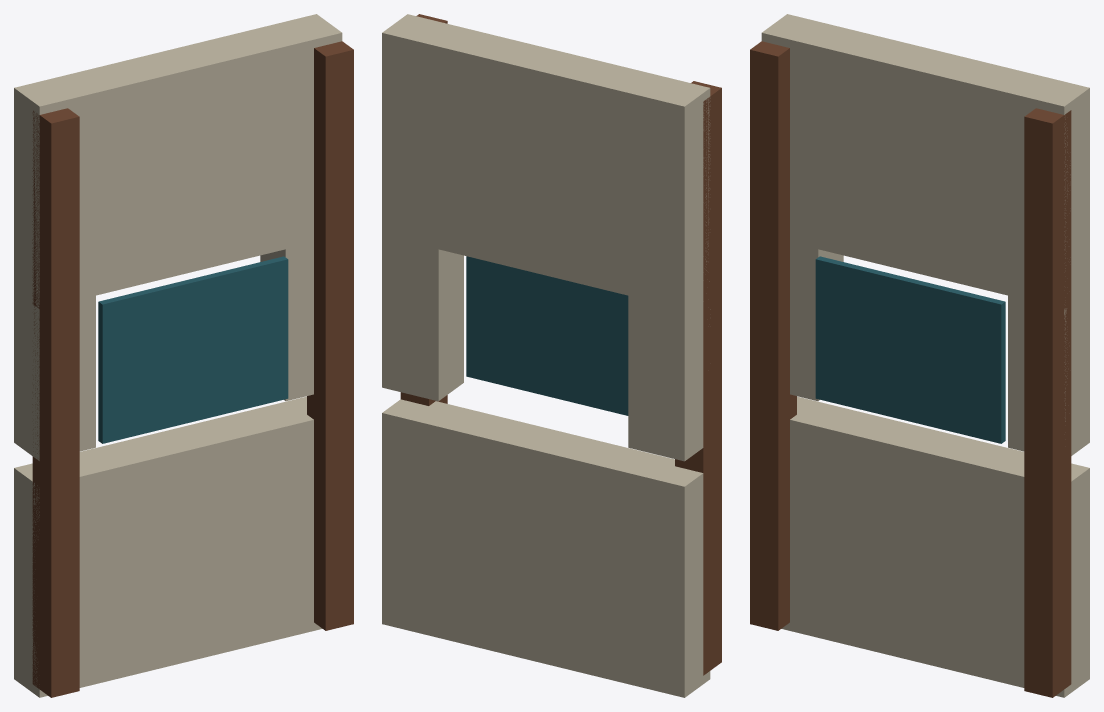
The model's file is wk_facade_window_v01.glb.
3 renders of one model, left to right at view 1: azimuth 30°, elevation 25°; view 2: azimuth 150°, elevation 25°; view 3: azimuth 330°, elevation 25°, orthographic.
Visible parts, largest first — view 1: GEO_WindowUpper, GEO_WindowLower, GEO_WindowGlass, GEO_WindowPost-1, GEO_WindowPost+1, GEO_WindowSide-1, GEO_WindowSide+1; view 2: GEO_WindowLower, GEO_WindowUpper, GEO_WindowGlass, GEO_WindowSide+1, GEO_WindowSide-1, GEO_WindowPost-1; view 3: GEO_WindowUpper, GEO_WindowLower, GEO_WindowPost+1, GEO_WindowGlass, GEO_WindowPost-1, GEO_WindowSide+1, GEO_WindowSide-1.
Part boxes in pixels (x1,y1,x2,y2): GEO_WindowUpper: (14,14,342,308); GEO_WindowLower: (14,396,322,697); GEO_WindowGlass: (98,256,288,443); GEO_WindowPost-1: (32,108,79,697); GEO_WindowPost+1: (307,41,353,630); GEO_WindowSide-1: (14,291,95,460); GEO_WindowSide+1: (260,242,313,400); GEO_WindowLower: (382,399,710,697); GEO_WindowUpper: (382,14,710,309); GEO_WindowGlass: (466,256,628,415); GEO_WindowSide+1: (382,235,463,401); GEO_WindowSide-1: (628,295,710,461); GEO_WindowPost-1: (675,81,721,675); GEO_WindowUpper: (761,14,1089,303); GEO_WindowLower: (781,396,1089,697); GEO_WindowPost+1: (1024,108,1071,697); GEO_WindowGlass: (815,256,1005,443); GEO_WindowPost-1: (750,41,796,630); GEO_WindowSide+1: (1008,291,1089,455); GEO_WindowSide-1: (790,242,843,400).
Size of the model in its own units: 1.5 by 2.8 by 0.32.
